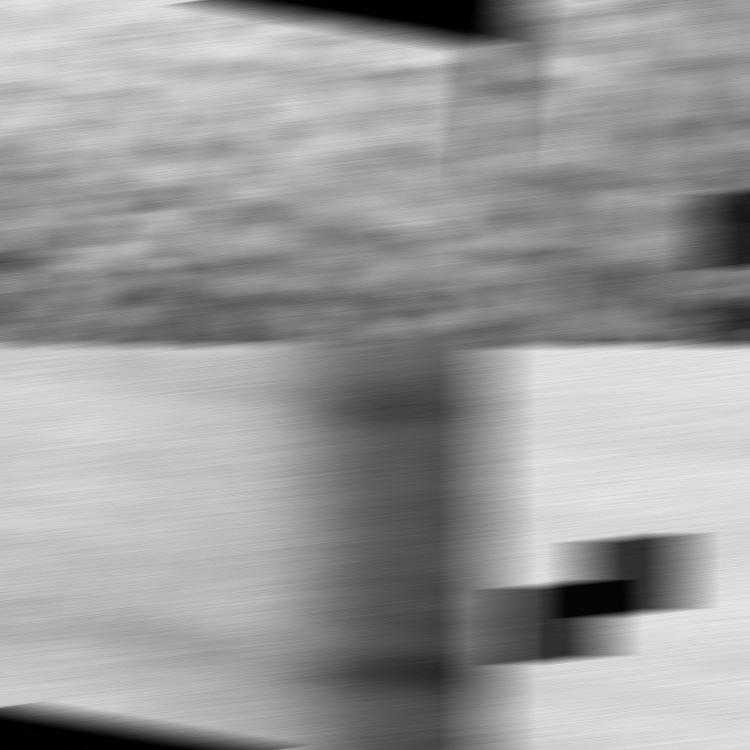Airbag: (0, 1, 499, 344), (475, 1, 750, 344)
